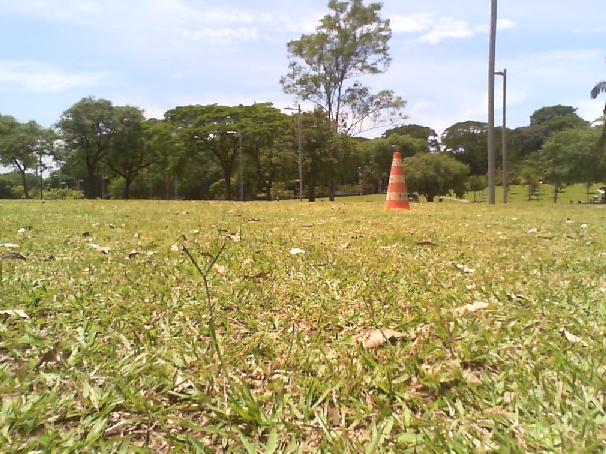0 cone: (383, 153, 411, 210)
